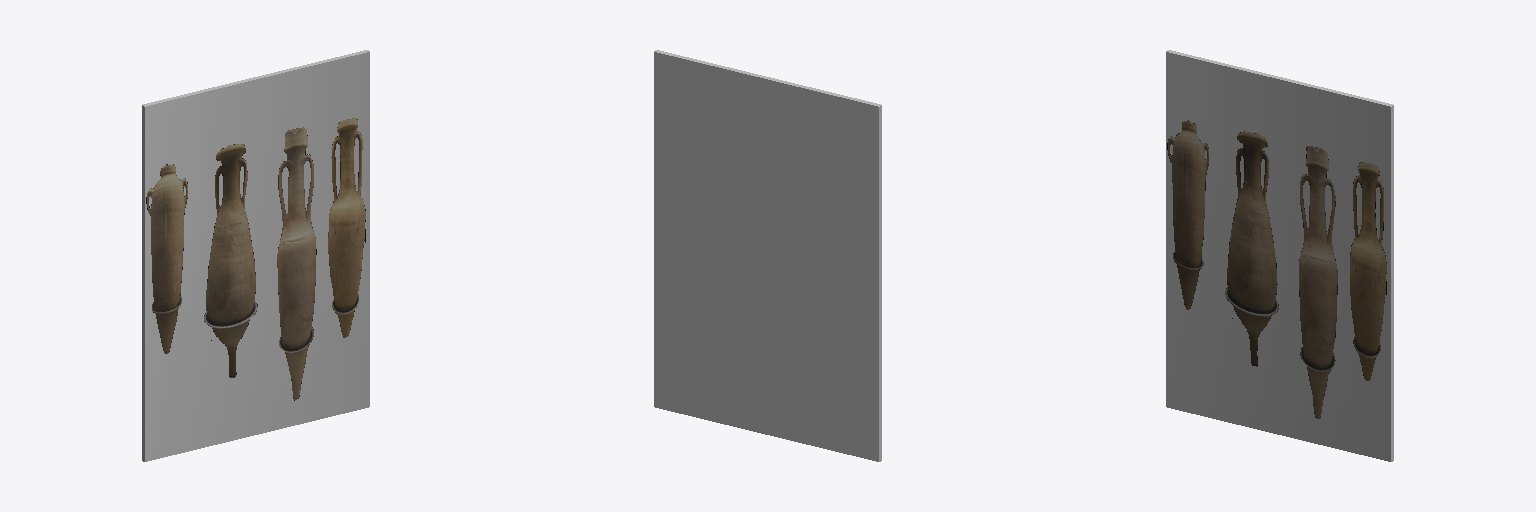
3 views of the same model, side by side, from view 1: azimuth 30°, elevation 25°; view 2: azimuth 150°, elevation 25°; view 3: azimuth 330°, elevation 25° (orthographic).
Visible parts, largest first — view 1: SketchUp.001_ID10, SketchUp_ID2; view 2: SketchUp_ID2; view 3: SketchUp.001_ID10, SketchUp_ID2.
Boxes of the visible parts, x1,y1,x2,y2 form: SketchUp.001_ID10: [145, 52, 369, 461]; SketchUp_ID2: [142, 50, 369, 461]; SketchUp_ID2: [654, 50, 881, 461]; SketchUp.001_ID10: [1166, 52, 1390, 461]; SketchUp_ID2: [1166, 50, 1393, 461].
Bounding box in the file's own units: 188 × 283 × 3.94.
Materials: 2 (1 with a texture image).